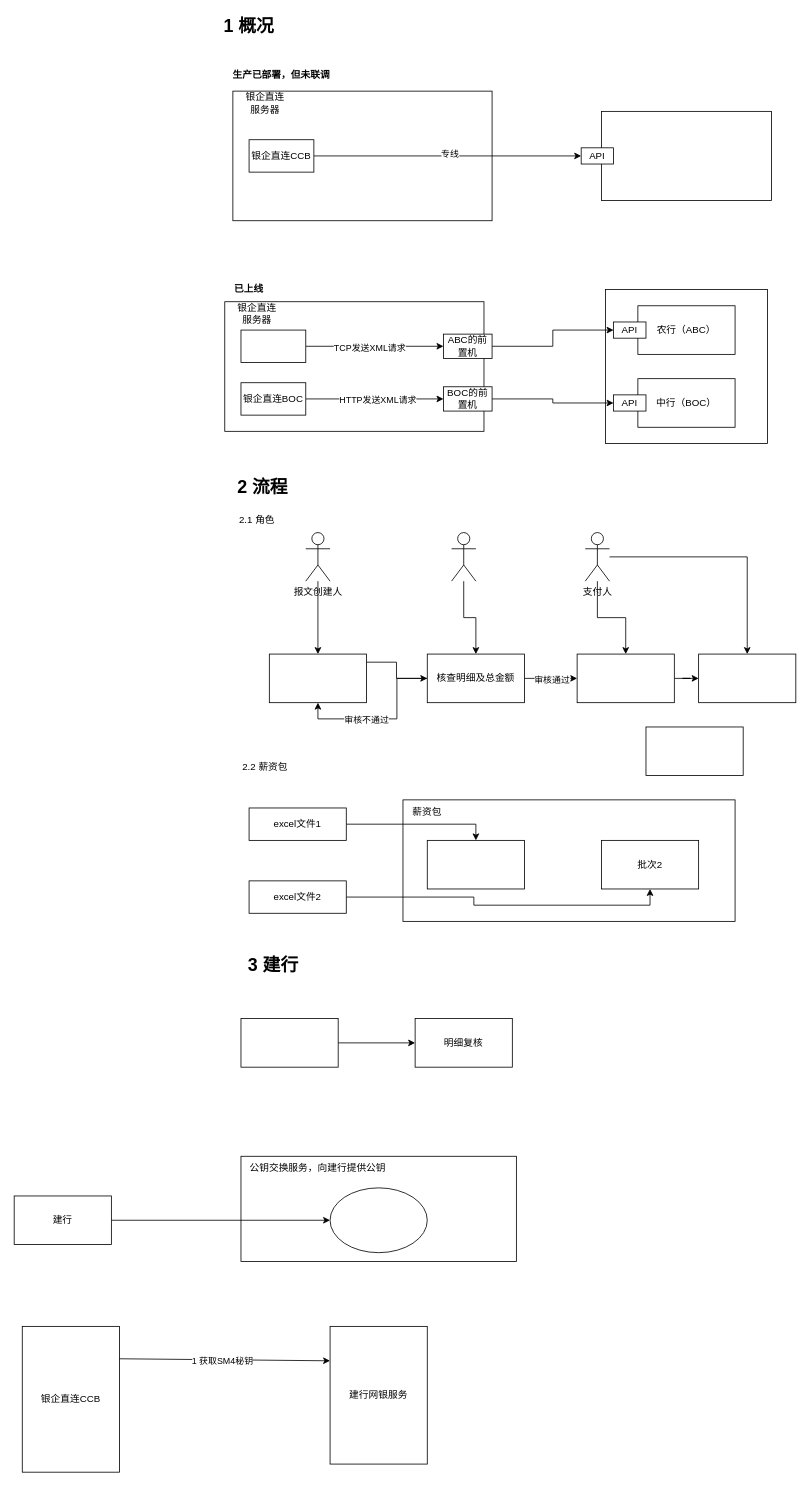
This 810x1486 diagram has some shape labels left out. Here are the shapes that lost their labels. From the top down, the box of each, then its label:
(601, 111, 772, 200): 建行（CCB）
(240, 329, 306, 362): 银企直连ABC
(451, 532, 476, 581): 复核人
(269, 653, 367, 703): 导入EXCEL，生成薪资包
(576, 653, 674, 703): 支付
(698, 653, 796, 703): 查询支付结果
(426, 840, 524, 889): 批次1
(240, 1018, 338, 1067): 生成报文
(329, 1187, 427, 1253): 公钥
